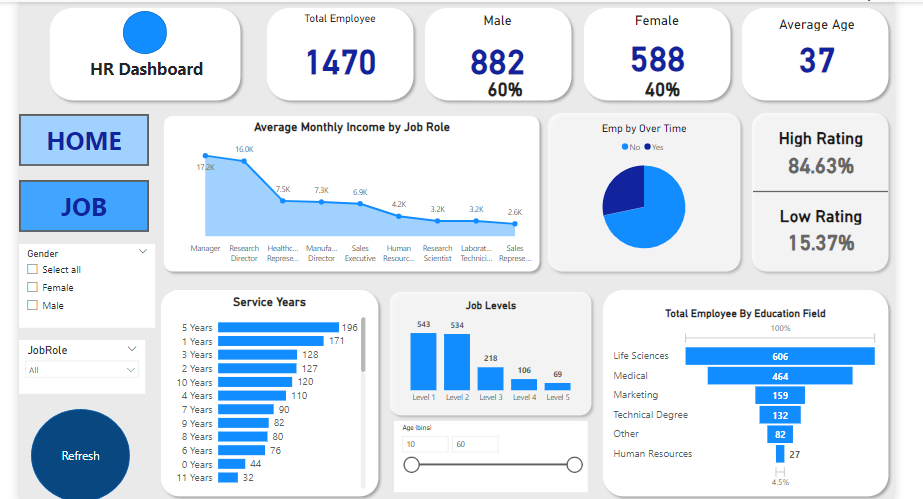

The dashboard page shown, as its layout file describes it:
{"tool":"powerbi","page":{"name":"Home","canvas":[1400,800],"ordinal":0},"visuals":[{"type":"shape","box":[222.4,172.8,619.2,267.2],"z":0},{"type":"shape","box":[584,454.4,340.8,216],"z":1000},{"type":"shape","box":[217.6,451.2,366.4,348.8],"z":2000},{"type":"shape","box":[1163.2,168,236.8,272],"z":3000},{"type":"shape","box":[836.8,168,326.4,272],"z":4000},{"type":"shape","box":[924.8,451.2,475.2,348.8],"z":5000},{"type":"shape","box":[1147.2,0,252.8,166.4],"z":6000},{"type":"shape","box":[894.4,0,252.8,166.4],"z":7000},{"type":"shape","box":[640,0,252.8,166.4],"z":8000},{"type":"shape","box":[387.2,0,252.8,166.4],"z":9000},{"type":"card","title":"Total Employee","fields":{"Values":["Measure.Total Employee"]},"box":[419.2,16,188.8,128],"z":10000},{"type":"card","title":"Male","fields":{"Values":["Measure.Male"]},"box":[667.2,16,196.8,123.2],"z":11000},{"type":"card","title":"Female","fields":{"Values":["Measure.Female"]},"box":[924.8,16,192,113.6],"z":12000},{"type":"card","title":"Average Age","fields":{"Values":["Avg(HR Analytics Data.Age)"]},"box":[1174.4,22.4,204.8,104],"z":13000},{"type":"card","fields":{"Values":["Measure.Female %"]},"box":[985.6,120,88,36.8],"z":14000},{"type":"card","fields":{"Values":["Measure.Male %"]},"box":[728,120,99.2,36.8],"z":15000},{"type":"actionButton","box":[0,179.2,208,83.2],"z":16000},{"type":"actionButton","box":[0,284.8,208,83.2],"z":17000},{"type":"slicer","fields":{"Values":["HR Analytics Data.Gender"]},"box":[0,387.2,217.6,134.4],"z":18000},{"type":"slicer","fields":{"Values":["HR Analytics Data.JobRole"]},"box":[0,540.8,201.6,86.4],"z":19000},{"type":"shape","box":[40,0,323.2,166.4],"z":20000},{"type":"funnel","fields":{"Category":["HR Analytics Data.EducationField"],"Y":["CountNonNull(HR Analytics Data.Education)"]},"box":[945.6,488,433.6,294.4],"z":21000},{"type":"pieChart","title":"Emp by Over Time ","fields":{"Category":["HR Analytics Data.OverTime"],"Y":["CountNonNull(HR Analytics Data.OverTime)"]},"box":[865.6,192,268.8,224],"z":22000},{"type":"shape","box":[1174.4,292.8,216,20.8],"z":23000},{"type":"card","title":"High Rating","fields":{"Values":["Measure.% High Rating"]},"box":[1203.2,201.6,160,83.2],"z":24000},{"type":"card","title":"Low Rating","fields":{"Values":["Measure.% Low Rating"]},"box":[1203.2,326.4,160,81.6],"z":25000},{"type":"clusteredBarChart","title":"Service Years","fields":{"Category":["HR Analytics Data.Service Years"],"Y":["CountNonNull(HR Analytics Data.TotalWorkingYears)"]},"box":[241.6,468.8,318.4,315.2],"z":26000},{"type":"columnChart","title":"Job Levels","fields":{"Y":["CountNonNull(HR Analytics Data.JobLevel)"],"Category":["HR Analytics Data.Job Levels"]},"box":[600,475.2,310.4,176],"z":27000},{"type":"areaChart","title":"Average Monthly Income by Job Role","fields":{"Category":["HR Analytics Data.JobRole"],"Y":["Measure.Avg Income by Role"]},"box":[238.4,188.8,588.8,236.8],"z":28000},{"type":"slicer","fields":{"Values":["HR Analytics Data.Age (bins)"]},"box":[600,670.4,310.4,113.6],"z":28001},{"type":"shape","box":[166.4,14.4,70.4,68.8],"z":28002},{"type":"textbox","box":[78.4,83.2,251.2,60.8],"z":28003},{"type":"shape","box":[19.2,651.2,158.4,148.8],"z":28004}]}

Visuals, with their boxes on the page's 1400x800 design canvas (x1, y1, x2, y2). These are canvas units, not pixel positions in the 923x499 screenshot, which may show the page scaled, cropped or inside an application window:
shape: bbox=(222, 173, 842, 440)
shape: bbox=(584, 454, 925, 670)
shape: bbox=(218, 451, 584, 800)
shape: bbox=(1163, 168, 1400, 440)
shape: bbox=(837, 168, 1163, 440)
shape: bbox=(925, 451, 1400, 800)
shape: bbox=(1147, 0, 1400, 166)
shape: bbox=(894, 0, 1147, 166)
shape: bbox=(640, 0, 893, 166)
shape: bbox=(387, 0, 640, 166)
"Total Employee" card: bbox=(419, 16, 608, 144)
"Male" card: bbox=(667, 16, 864, 139)
"Female" card: bbox=(925, 16, 1117, 130)
"Average Age" card: bbox=(1174, 22, 1379, 126)
card - Measure.Female %: bbox=(986, 120, 1074, 157)
card - Measure.Male %: bbox=(728, 120, 827, 157)
actionButton: bbox=(0, 179, 208, 262)
actionButton: bbox=(0, 285, 208, 368)
slicer - HR Analytics Data.Gender: bbox=(0, 387, 218, 522)
slicer - HR Analytics Data.JobRole: bbox=(0, 541, 202, 627)
shape: bbox=(40, 0, 363, 166)
funnel - HR Analytics Data.EducationField x CountNonNull(HR Analytics Data.Education): bbox=(946, 488, 1379, 782)
"Emp by Over Time " pieChart: bbox=(866, 192, 1134, 416)
shape: bbox=(1174, 293, 1390, 314)
"High Rating" card: bbox=(1203, 202, 1363, 285)
"Low Rating" card: bbox=(1203, 326, 1363, 408)
"Service Years" clusteredBarChart: bbox=(242, 469, 560, 784)
"Job Levels" columnChart: bbox=(600, 475, 910, 651)
"Average Monthly Income by Job Role" areaChart: bbox=(238, 189, 827, 426)
slicer - HR Analytics Data.Age (bins): bbox=(600, 670, 910, 784)
shape: bbox=(166, 14, 237, 83)
textbox: bbox=(78, 83, 330, 144)
shape: bbox=(19, 651, 178, 800)
